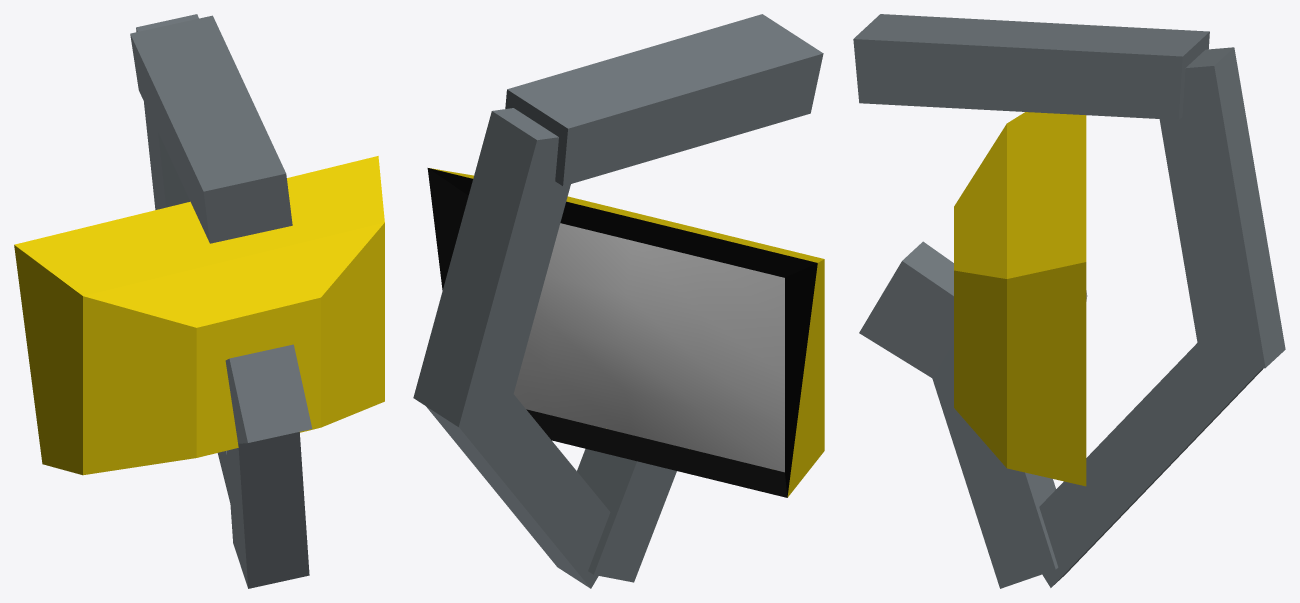
File: Player Armature.fbx
3 renders of one model, left to right at view 1: azimuth 30°, elevation 25°; view 2: azimuth 150°, elevation 25°; view 3: azimuth 270°, elevation 25°, orthographic. The views are drawn at different scales.
Visible parts, largest first — view 1: CRT Frame, Base Arm, Upper Arm, Lower Arm; view 2: CRT Screen Arm, Base Arm, Lower Arm, CRT Frame, Mid Arm, Upper Arm; view 3: CRT Frame, Base Arm, Lower Arm, Upper Arm, Mid Arm.
Boxes of the visible parts, x1,y1,x2,y2 form: CRT Frame: (14, 156, 384, 475); Base Arm: (130, 15, 292, 243); Upper Arm: (225, 344, 312, 588); Lower Arm: (136, 14, 198, 209); CRT Screen Arm: (513, 223, 784, 472); Base Arm: (505, 14, 823, 186); Lower Arm: (413, 108, 570, 427); CRT Frame: (427, 168, 824, 497); Mid Arm: (426, 394, 610, 588); Upper Arm: (577, 448, 676, 582); CRT Frame: (954, 112, 1086, 486); Base Arm: (853, 14, 1209, 119); Lower Arm: (1159, 47, 1285, 373); Upper Arm: (859, 241, 1058, 588); Mid Arm: (1039, 343, 1263, 587).
Size of the model in its own units: 0.6641 by 0.8827 by 0.646.
